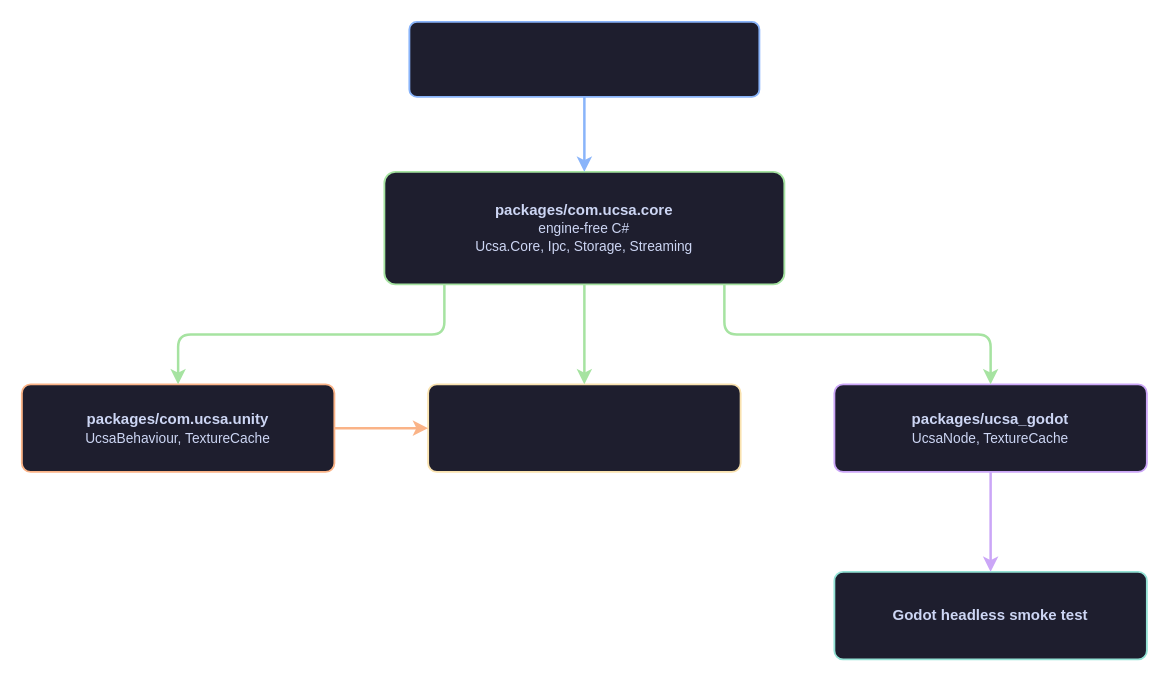
The diagram is 1170 pixels wide and 683 high, and some of its shapes have lost their labels. The shapes that lost their labels are listed below. From the top down, each one's centre as x and y in pixels, then its label:
the point at 584,58: contracts/ipc/vectors.json shared conformance fixture
the point at 584,427: dotnet test core + Unity suites
